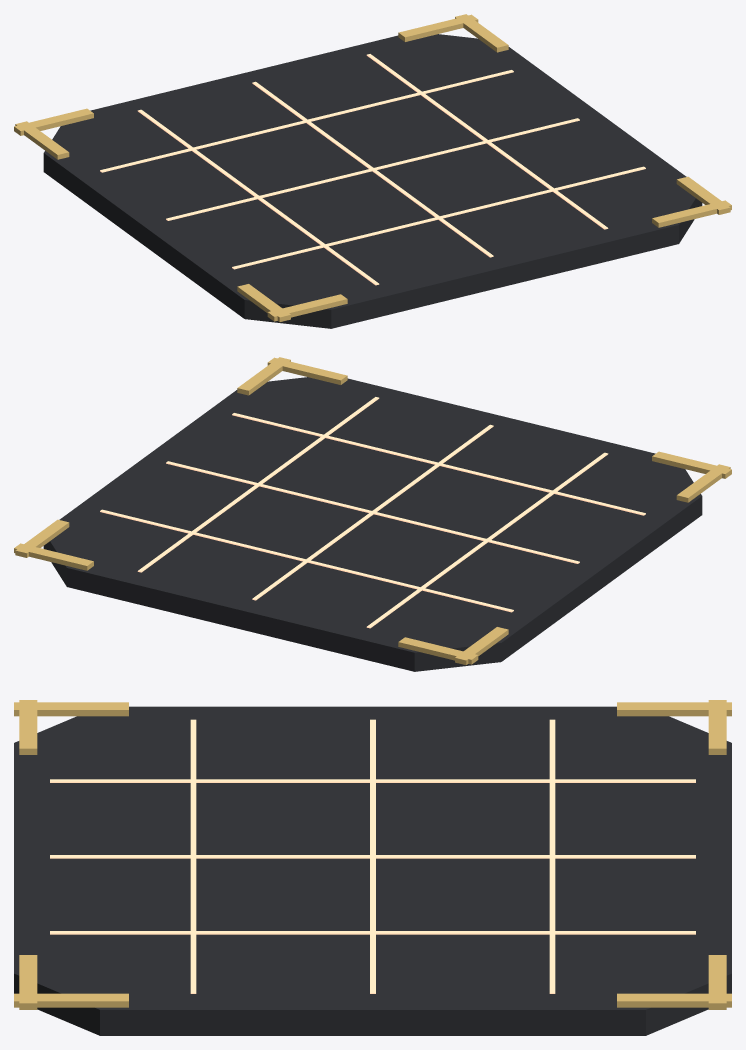
Rendered from Build_AegisPad.fbx.
3 renders of one model, top to bottom at view 1: azimuth 30°, elevation 25°; view 2: azimuth 150°, elevation 25°; view 3: azimuth 270°, elevation 25°, orthographic. The views are drawn at different scales.
Visible parts, largest first — view 1: APad_Slab, APad_GridY1, APad_GridY3, APad_GridY2, APad_GridX3, APad_GridX1, APad_GridX2, APad_BracketA3, APad_BracketA0, APad_BracketA1, APad_BracketA2, APad_BracketB2 (+3 smaller); view 2: APad_Slab, APad_GridY1, APad_GridY2, APad_GridY3, APad_GridX3, APad_GridX2, APad_GridX1, APad_BracketA2, APad_BracketA1, APad_BracketA0, APad_BracketA3, APad_BracketB3 (+3 smaller); view 3: APad_Slab, APad_GridX2, APad_GridX1, APad_GridX3, APad_GridY3, APad_GridY1, APad_GridY2, APad_BracketB2, APad_BracketB3, APad_BracketB1, APad_BracketB0, APad_BracketA3 (+3 smaller).
Part boxes in pixels (box(x1,y1,x2,y2)): APad_Slab: box(43, 34, 702, 328); APad_GridY1: box(232, 166, 645, 269); APad_GridY3: box(100, 70, 513, 172); APad_GridY2: box(166, 118, 579, 220); APad_GridX3: box(366, 54, 608, 229); APad_GridX1: box(137, 109, 379, 285); APad_GridX2: box(252, 81, 493, 257); APad_BracketA3: box(267, 294, 347, 321); APad_BracketA0: box(398, 14, 478, 41); APad_BracketA1: box(14, 108, 93, 135); APad_BracketA2: box(652, 200, 731, 227); APad_BracketB2: box(676, 176, 730, 214); APad_Slab: box(43, 377, 702, 671); APad_GridY1: box(232, 413, 645, 515); APad_GridY2: box(166, 461, 579, 563); APad_GridY3: box(100, 509, 513, 612); APad_GridX3: box(137, 397, 379, 572); APad_GridX2: box(252, 424, 493, 600); APad_GridX1: box(366, 452, 608, 628); APad_BracketA2: box(267, 357, 347, 384); APad_BracketA1: box(398, 637, 478, 664); APad_BracketA0: box(14, 543, 93, 570); APad_BracketA3: box(652, 451, 731, 478); APad_BracketB3: box(676, 464, 730, 502); APad_Slab: box(14, 706, 731, 1035); APad_GridX2: box(50, 855, 695, 858); APad_GridX1: box(50, 779, 695, 782); APad_GridX3: box(50, 931, 695, 934); APad_GridY3: box(549, 719, 555, 993); APad_GridY1: box(190, 719, 196, 993); APad_GridY2: box(370, 719, 375, 993); APad_BracketB2: box(14, 993, 128, 1007); APad_BracketB3: box(14, 702, 128, 716); APad_BracketB1: box(617, 702, 731, 716); APad_BracketB0: box(617, 993, 731, 1007); APad_BracketA3: box(19, 700, 37, 754).
Size of the model in its own units: 1 by 0.05 by 1.
